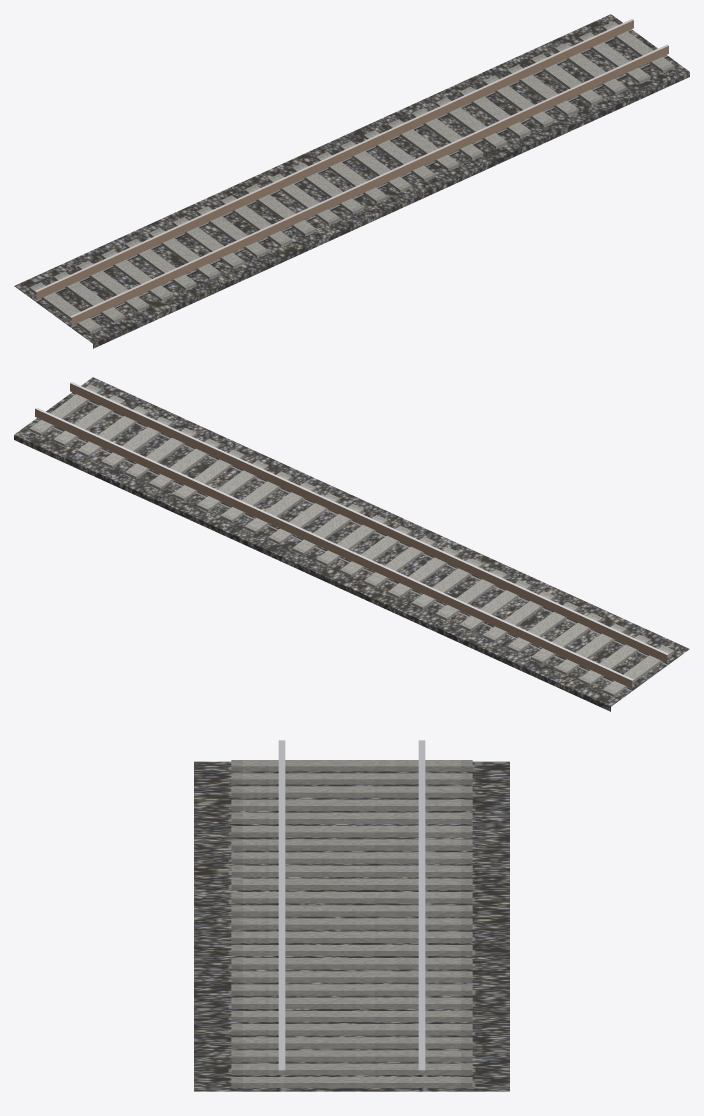
The model's file is kolej_svah_beton.glb.
3 views of the same model, one above another, from view 1: azimuth 30°, elevation 25°; view 2: azimuth 150°, elevation 25°; view 3: azimuth 270°, elevation 25° (orthographic). The views are drawn at different scales.
Visible parts, largest first — view 1: kolej_svah_beton; view 2: kolej_svah_beton; view 3: kolej_svah_beton.
Boxes of the visible parts, x1,y1,x2,y2 form: kolej_svah_beton: (14,14,689,348); kolej_svah_beton: (14,377,689,711); kolej_svah_beton: (194,740,509,1091).
Bounding box in the file's own units: 14.84 × 3.37 × 3.4.
Materials: 4 (2 with a texture image).
